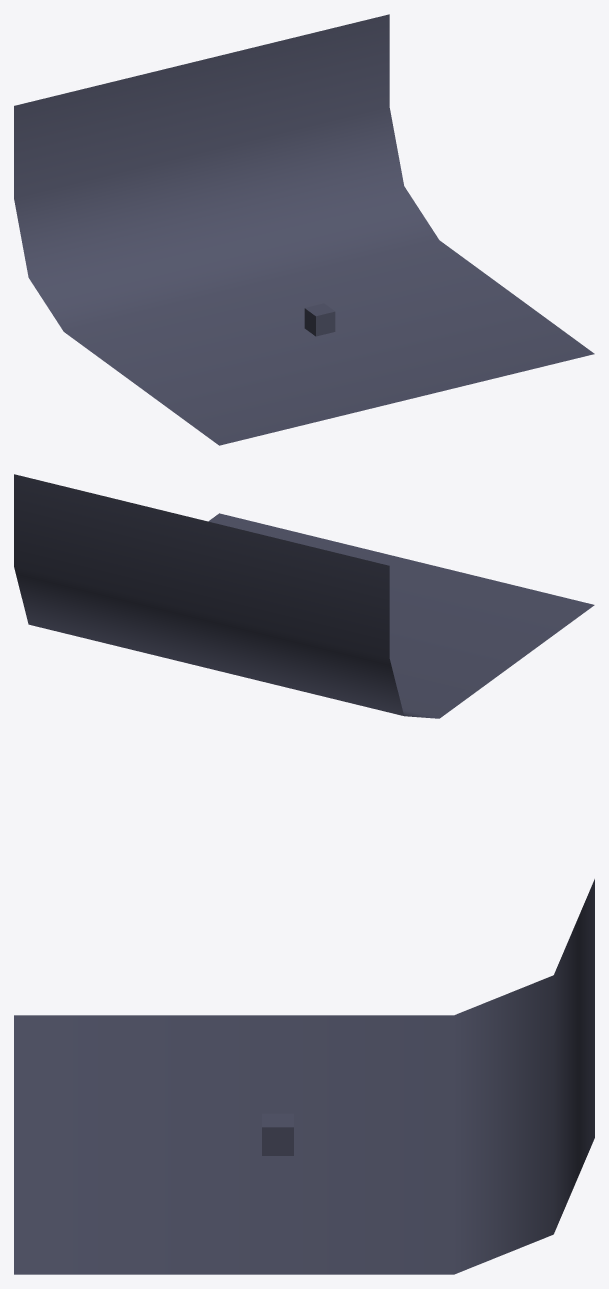
Rendered from forLamp.fbx.
The picture shows the model from 3 angles, top to bottom: view 1: azimuth 30°, elevation 25°; view 2: azimuth 150°, elevation 25°; view 3: azimuth 270°, elevation 25°; orthographic projection. The views are drawn at different scales.
Parts seen in each view (by area): view 1: Plane, Cube; view 2: Plane; view 3: Plane, Cube.
Part boxes in pixels (x1,y1,x2,y2): Plane: [14, 14, 594, 445]; Cube: [304, 303, 335, 336]; Plane: [14, 474, 594, 718]; Plane: [14, 879, 594, 1274]; Cube: [262, 1113, 293, 1155].
Size of the model in its own units: 1498 by 723 by 1418.
